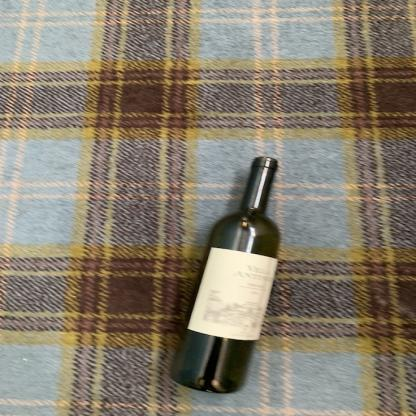trash: (166, 149, 290, 399)
